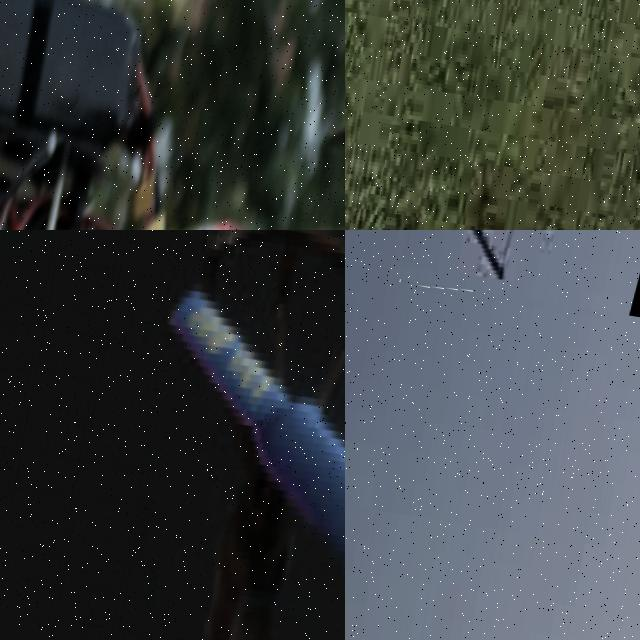0: (390, 230, 640, 318)
drone: (0, 230, 345, 640), (0, 0, 345, 230)
